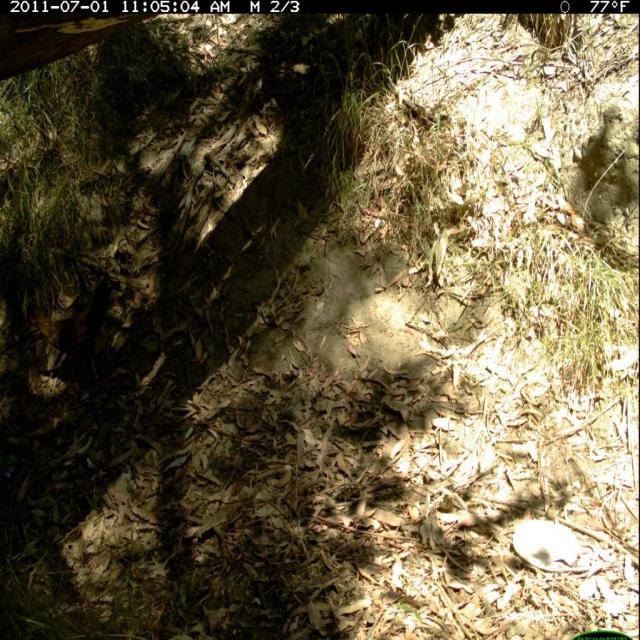bird: (26, 276, 118, 395)
